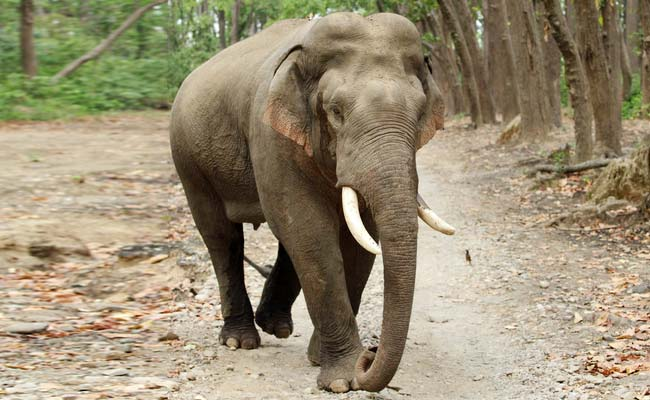Indian Elephant: (152, 13, 473, 396)
